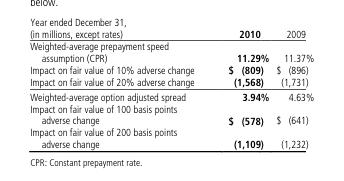table: (29, 28, 313, 149)
table column: (29, 28, 210, 149), (210, 28, 271, 149), (271, 28, 313, 149)
table column header: (29, 28, 313, 39)
table row: (29, 39, 313, 64), (29, 102, 313, 126), (29, 126, 313, 149), (29, 76, 313, 89), (29, 89, 313, 102), (29, 64, 313, 76), (29, 28, 313, 39)
